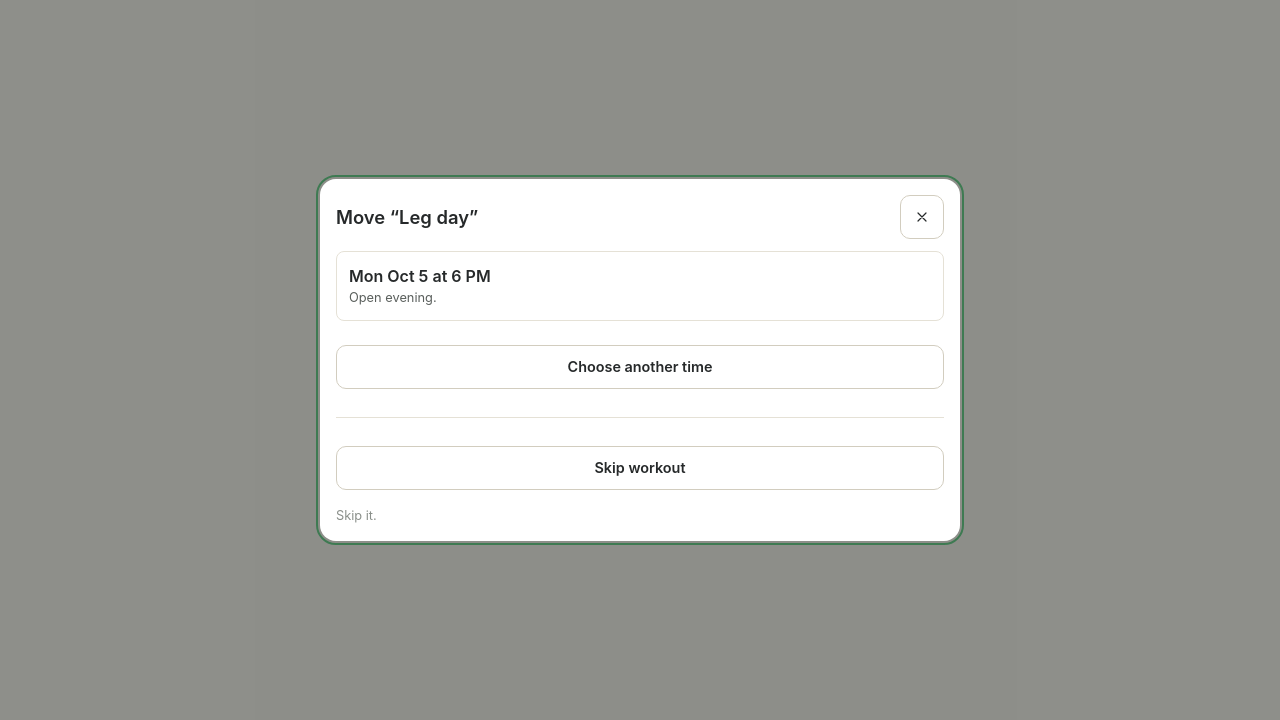
Scenario: a refusal says the server's words (the session guard, 409 `{ error, why }`) › `session_changed` (the row moved under the move, neither done nor under way): its words, the plan read again, and the sheet still offers its days and Skip — a r
Click the button "Mon Oct 5 at 6 PM Open evening.". click: (389, 276)
box: [336,251,944,320]
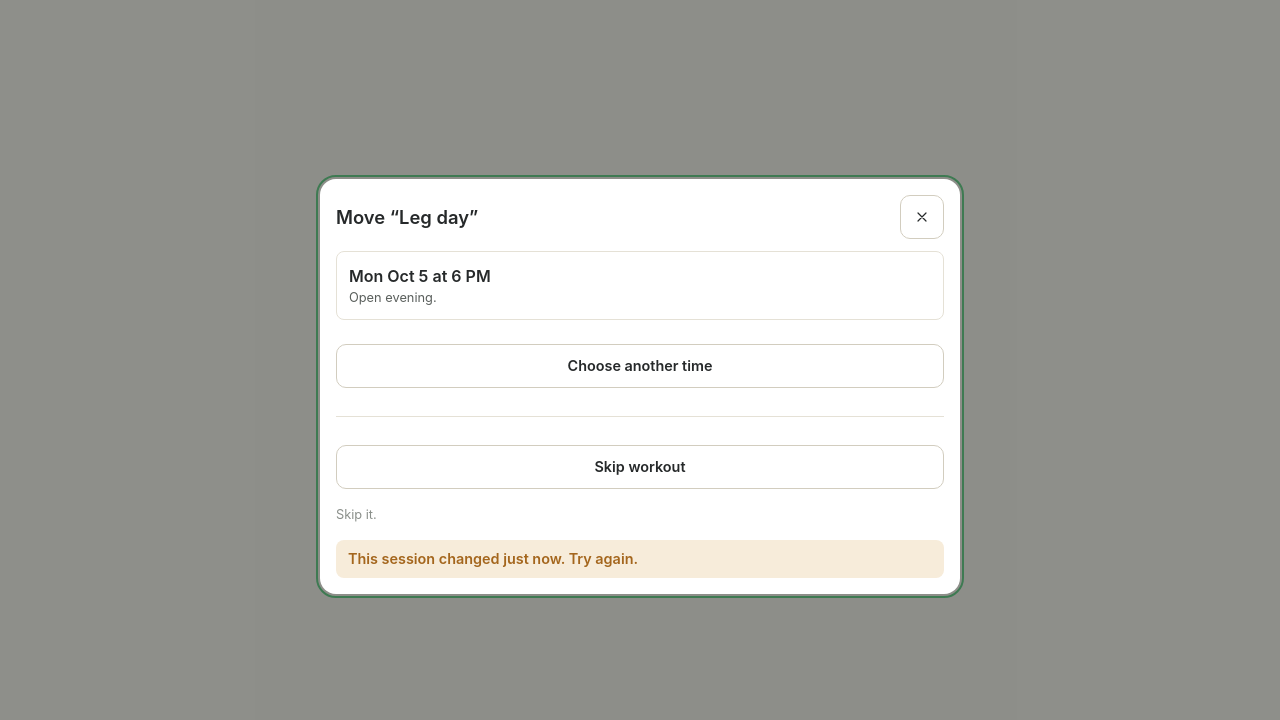
Click the button "Mon Oct 5 at 6 PM Open evening.". click: (389, 276)
box: [336,251,944,320]
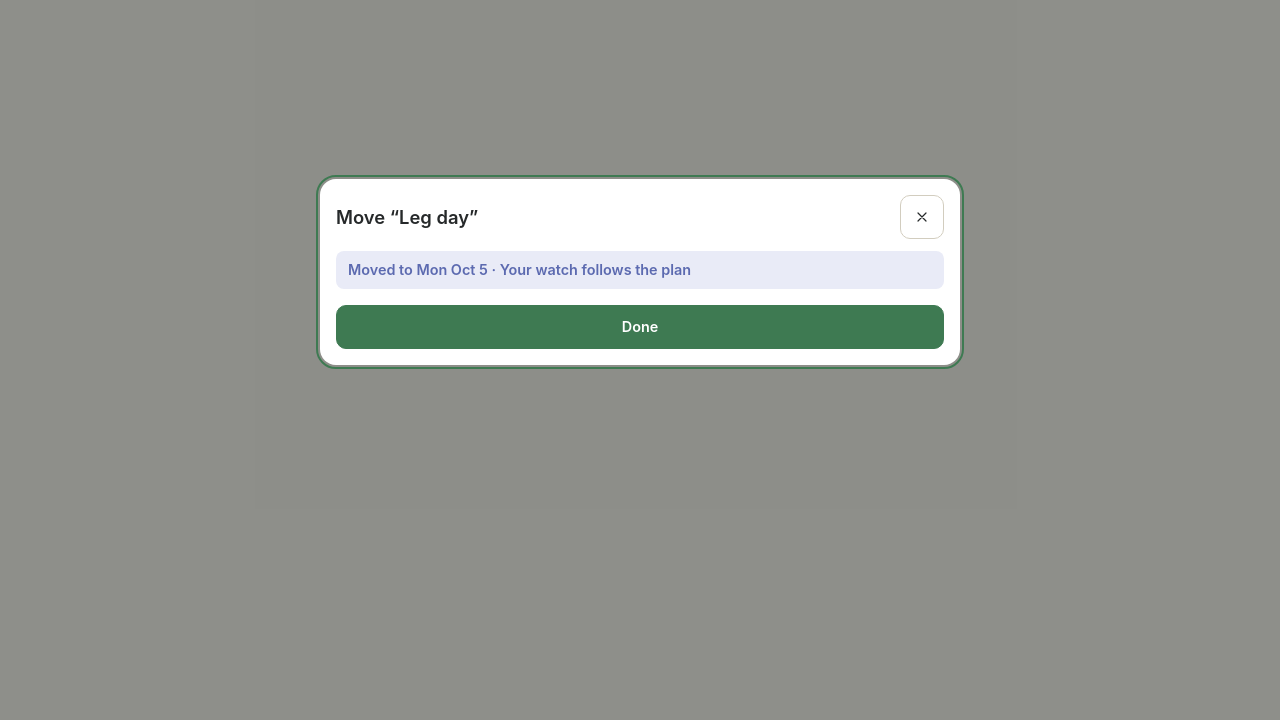
Result: the text "This session changed just now. Try again." is gone
